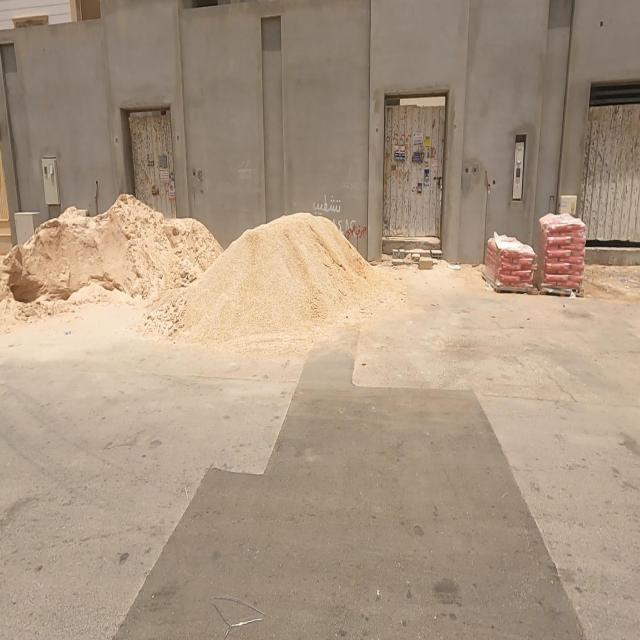Graffiti: (341, 217, 369, 242), (314, 198, 342, 219)
